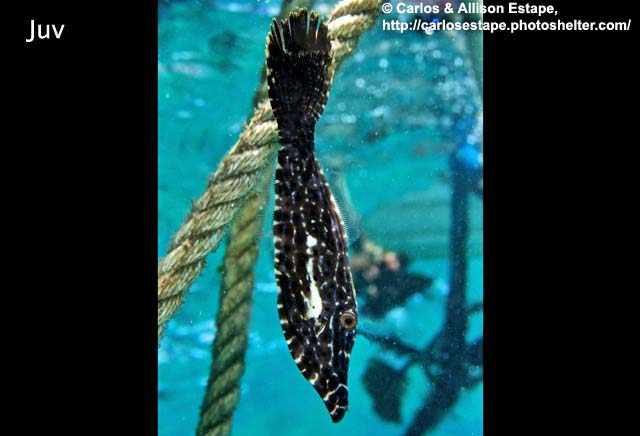Aluterus_scriptus: (255, 6, 372, 426)
